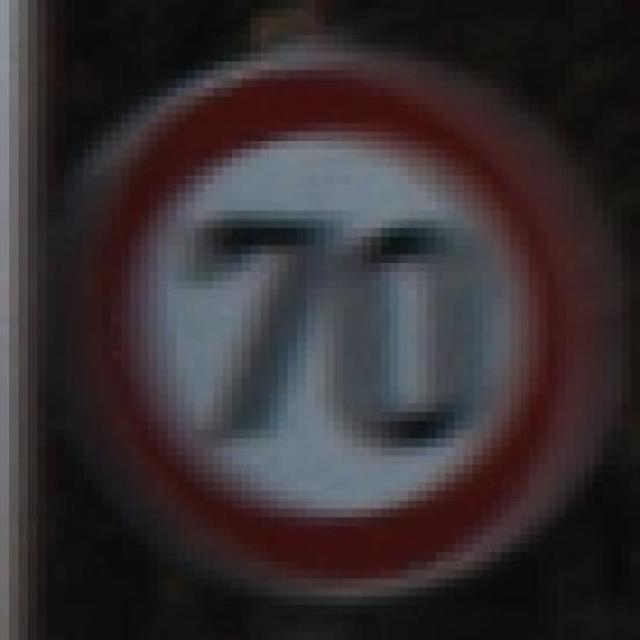forb_speed_over_70: (86, 63, 600, 586)
